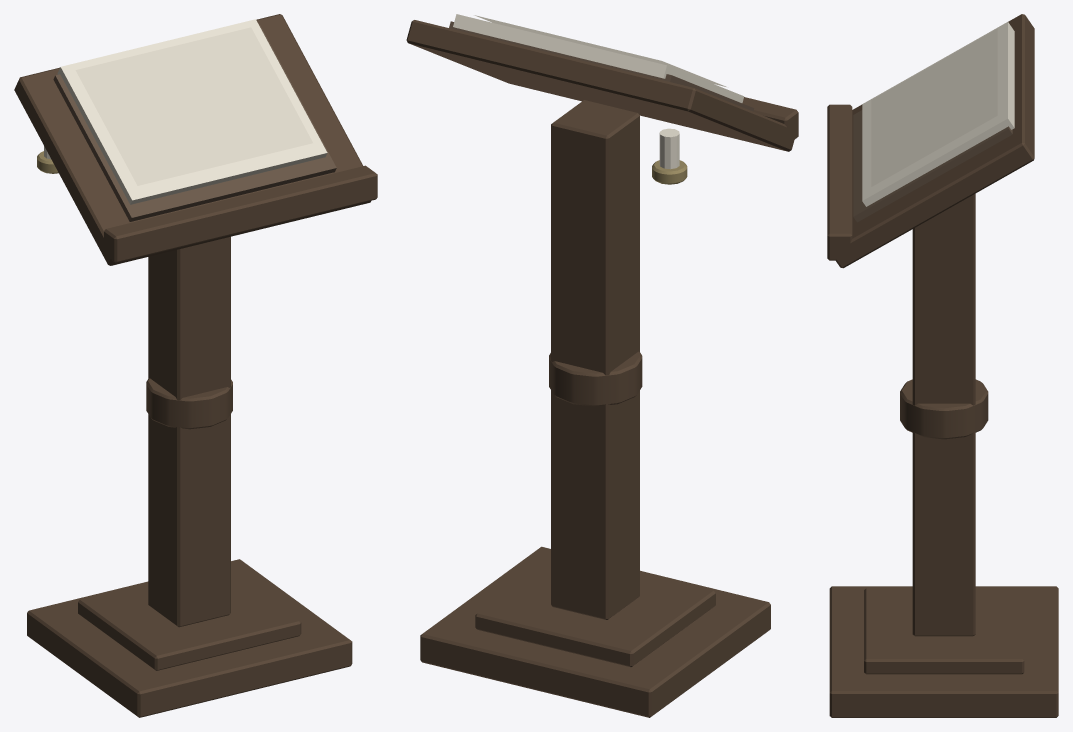
The model's file is Clue_LedgerStand.fbx.
3 renders of one model, left to right at view 1: azimuth 30°, elevation 25°; view 2: azimuth 150°, elevation 25°; view 3: azimuth 270°, elevation 25°, orthographic. The views are drawn at different scales.
Parts seen in each view (by area): view 1: Clue_LedgerStand; view 2: Clue_LedgerStand; view 3: Clue_LedgerStand.
Boxes of the visible parts, x1,y1,x2,y2 form: Clue_LedgerStand: (14,14,377,717); Clue_LedgerStand: (406,14,798,717); Clue_LedgerStand: (827,14,1058,717).
Bounding box in the file's own units: 54 × 115 × 40.4.
